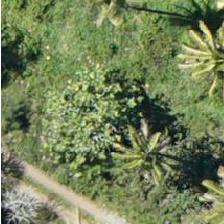Kelapa_Sawit: (104, 112, 194, 202), (176, 9, 224, 99)
